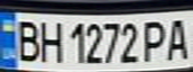1: (63, 18, 87, 64)
2: (81, 19, 106, 65), (118, 18, 142, 65)
7: (103, 19, 124, 65)
A: (163, 15, 193, 62)
B: (9, 16, 42, 63)
H: (36, 17, 63, 63)
P: (139, 16, 172, 64)
